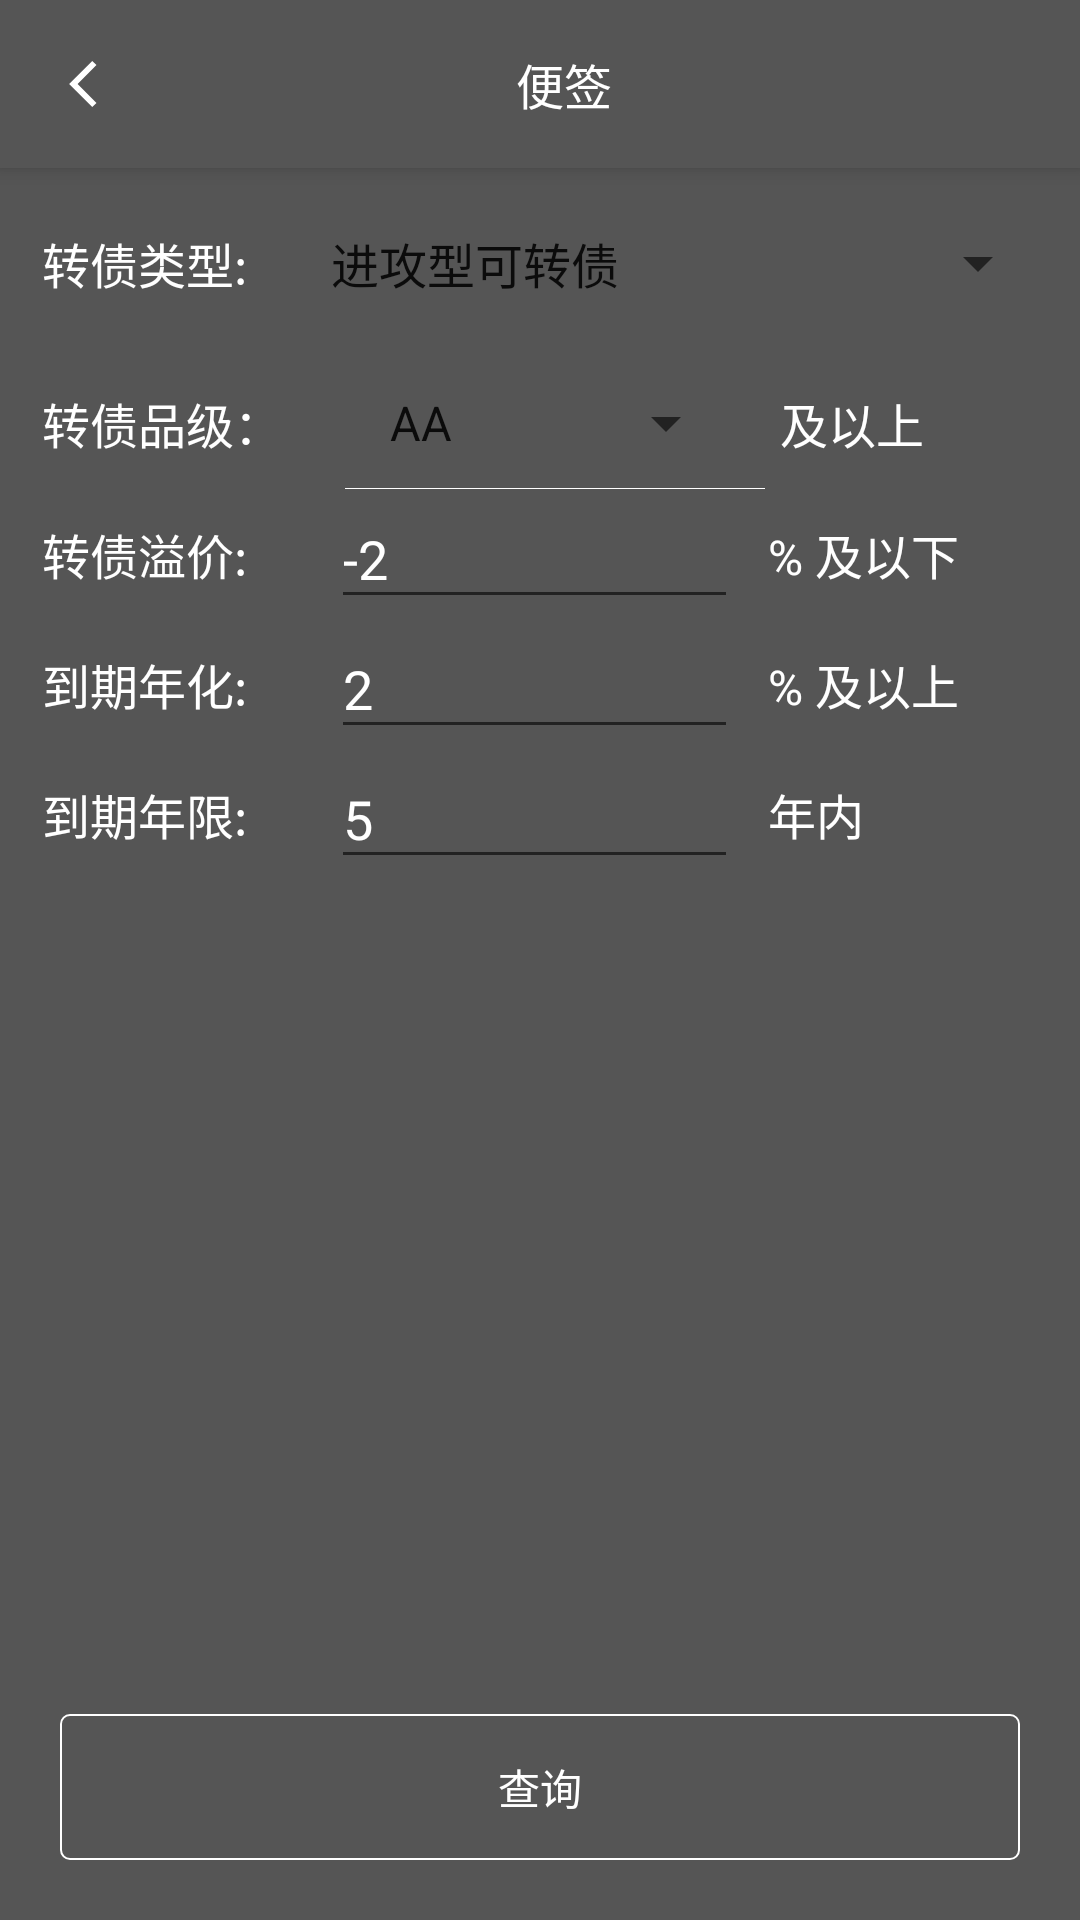

Where icons sit on this 1080px x 1920px app screen, as BBox(x1, y1, x2, y2):
arrow left: BBox(69, 61, 96, 107)
